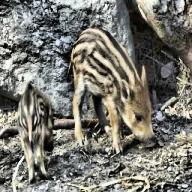boar: (66, 26, 158, 156)
